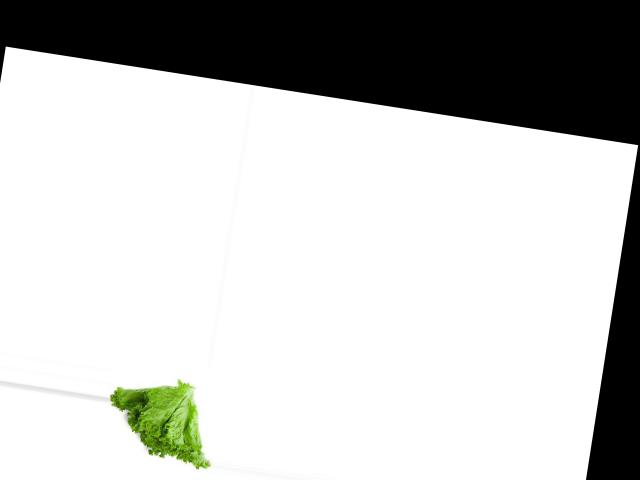lettuce: (99, 372, 223, 473)
